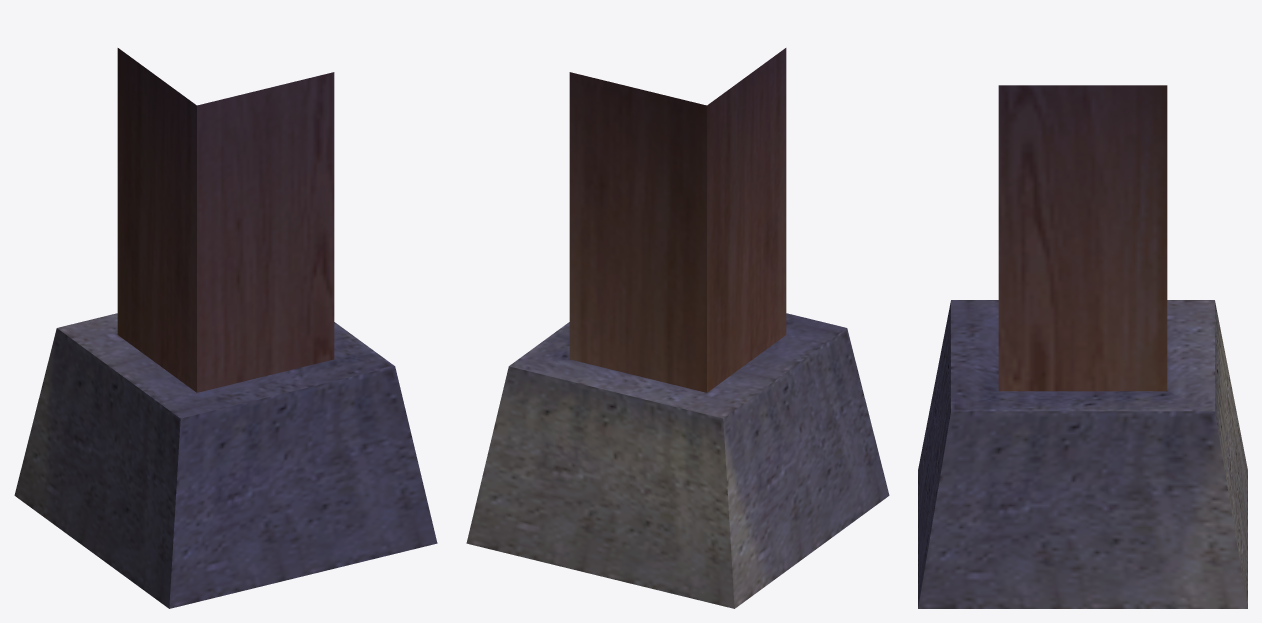
The picture shows the model from 3 angles, left to right: view 1: azimuth 30°, elevation 25°; view 2: azimuth 150°, elevation 25°; view 3: azimuth 270°, elevation 25°; orthographic projection. The views are drawn at different scales.
Parts seen in each view (by area): view 1: Joint_0_Object_0; view 2: Joint_0_Object_0; view 3: Joint_0_Object_0.
Part boxes in pixels (x1,y1,x2,y2): Joint_0_Object_0: (14, 48, 437, 608); Joint_0_Object_0: (466, 48, 889, 608); Joint_0_Object_0: (918, 85, 1247, 608).
Bounding box in the file's own units: 488 × 800 × 488.
Materials: 1 (1 with a texture image).
